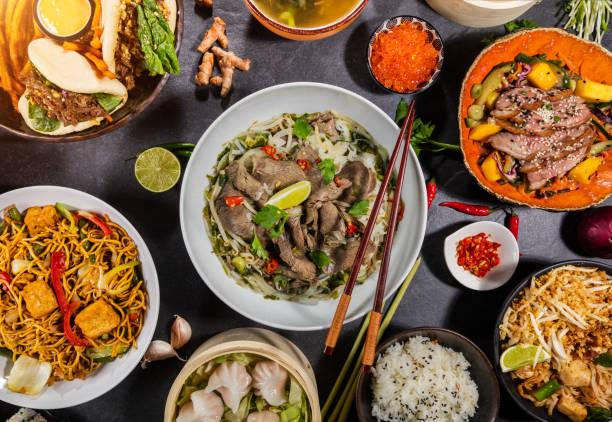Braised Crucian Carp: (179, 80, 420, 330), (1, 184, 162, 411), (457, 28, 606, 208), (3, 0, 180, 142), (494, 261, 610, 422)
